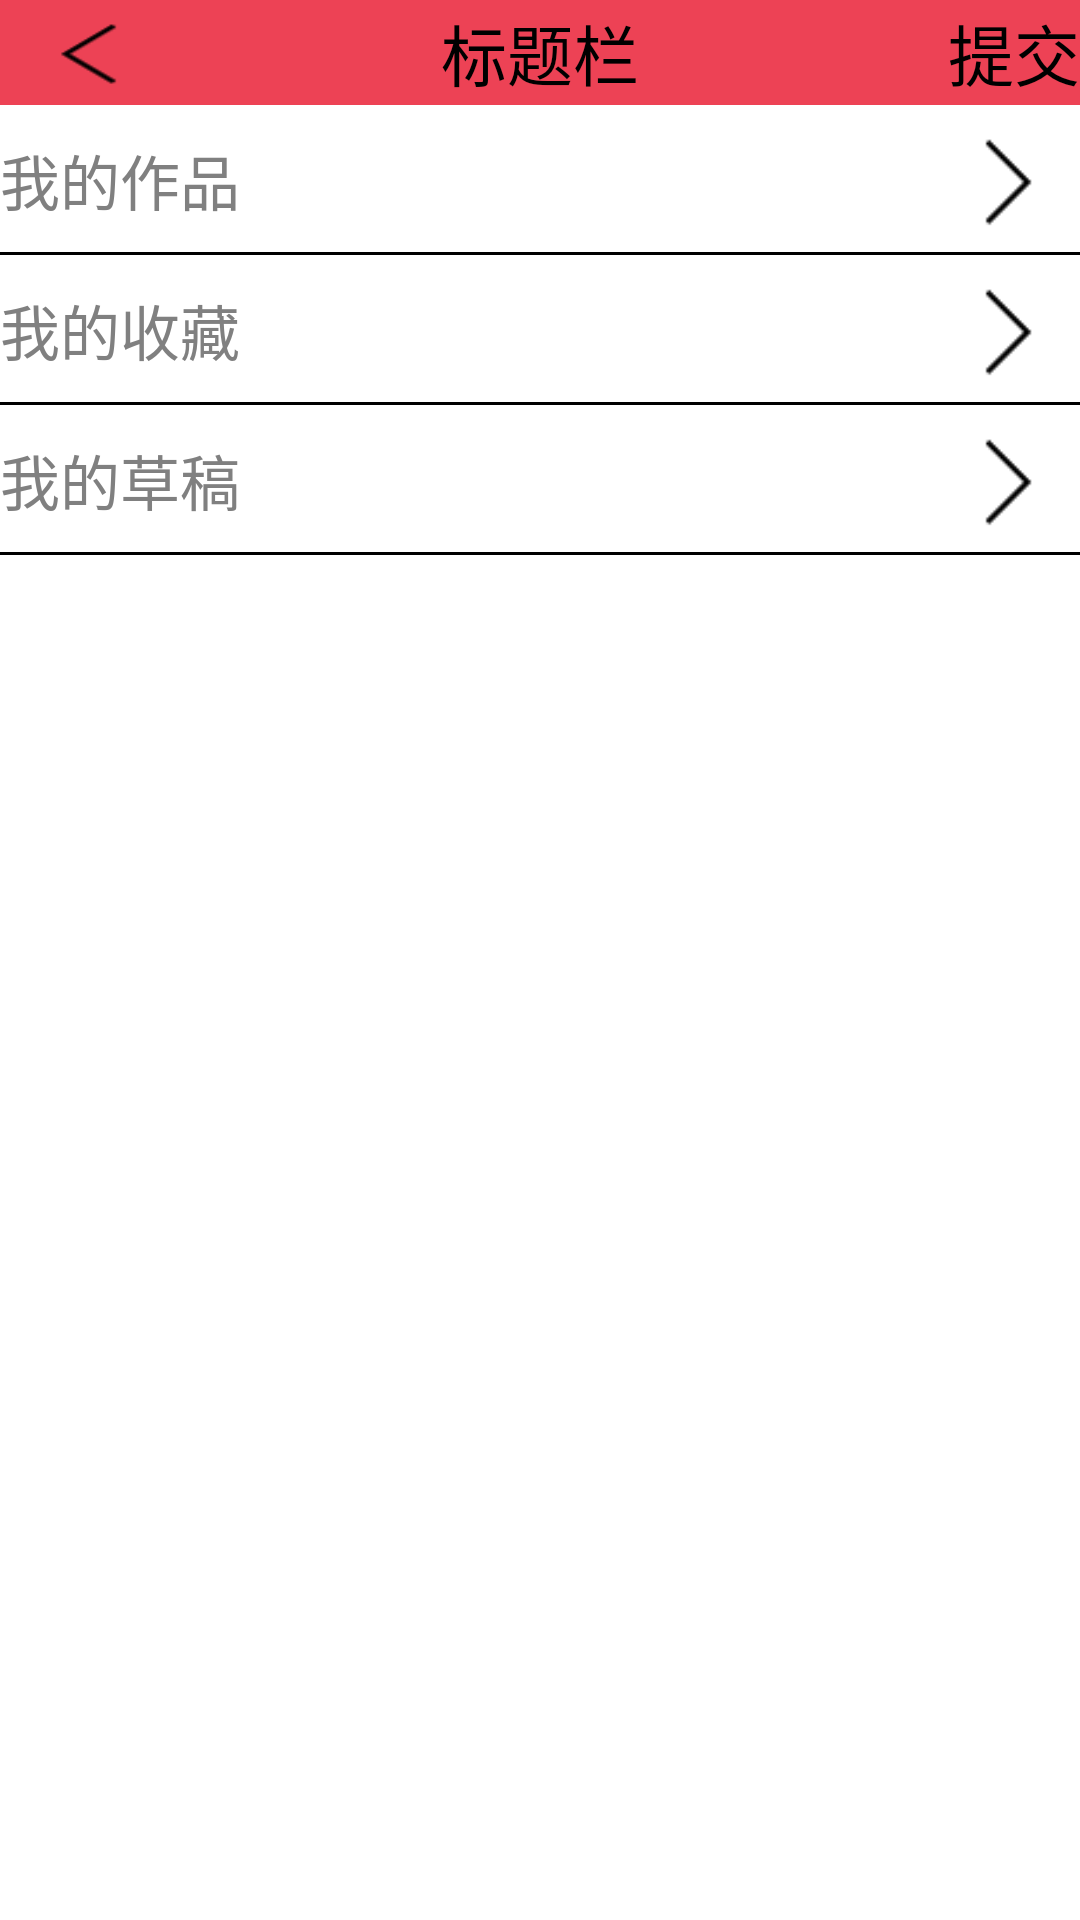

Where icons sit on this 1080×1920 app screen, as bbox=[x1, y1, x2, y2]:
back arrow: bbox=[61, 24, 116, 84]
forward arrow: bbox=[985, 139, 1032, 225], bbox=[985, 289, 1032, 375], bbox=[985, 439, 1032, 525]
